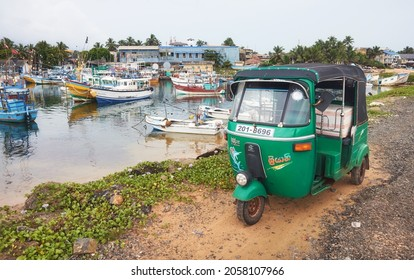threewheel: (225, 64, 370, 227)
